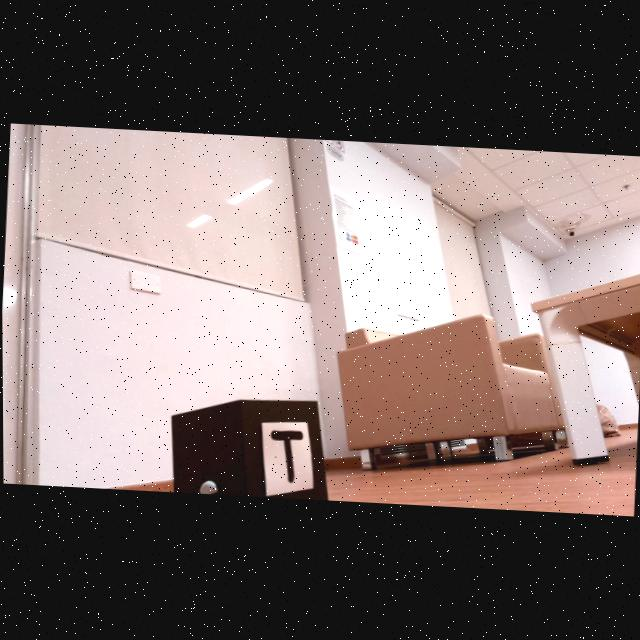T: (270, 431, 302, 483)
